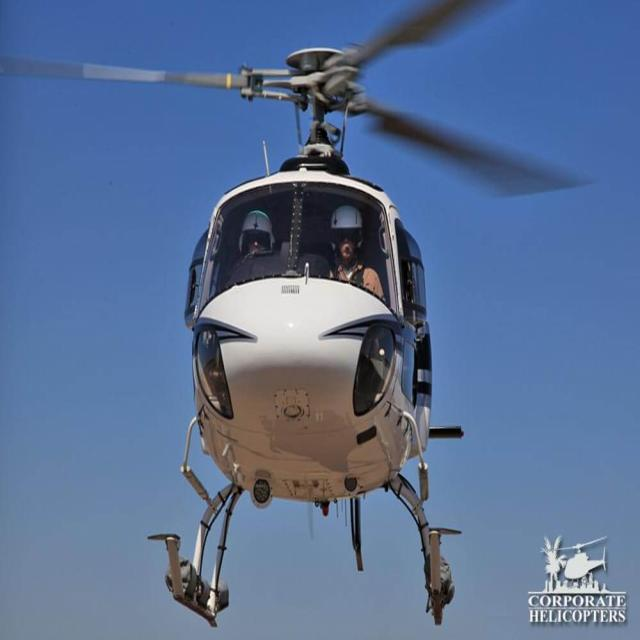helicopter: (19, 12, 574, 614)
